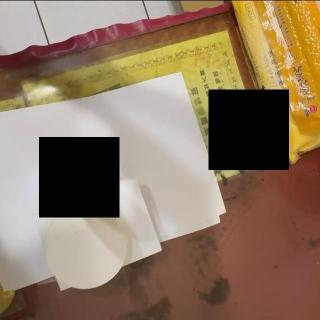carrot: (50, 146, 106, 210)
